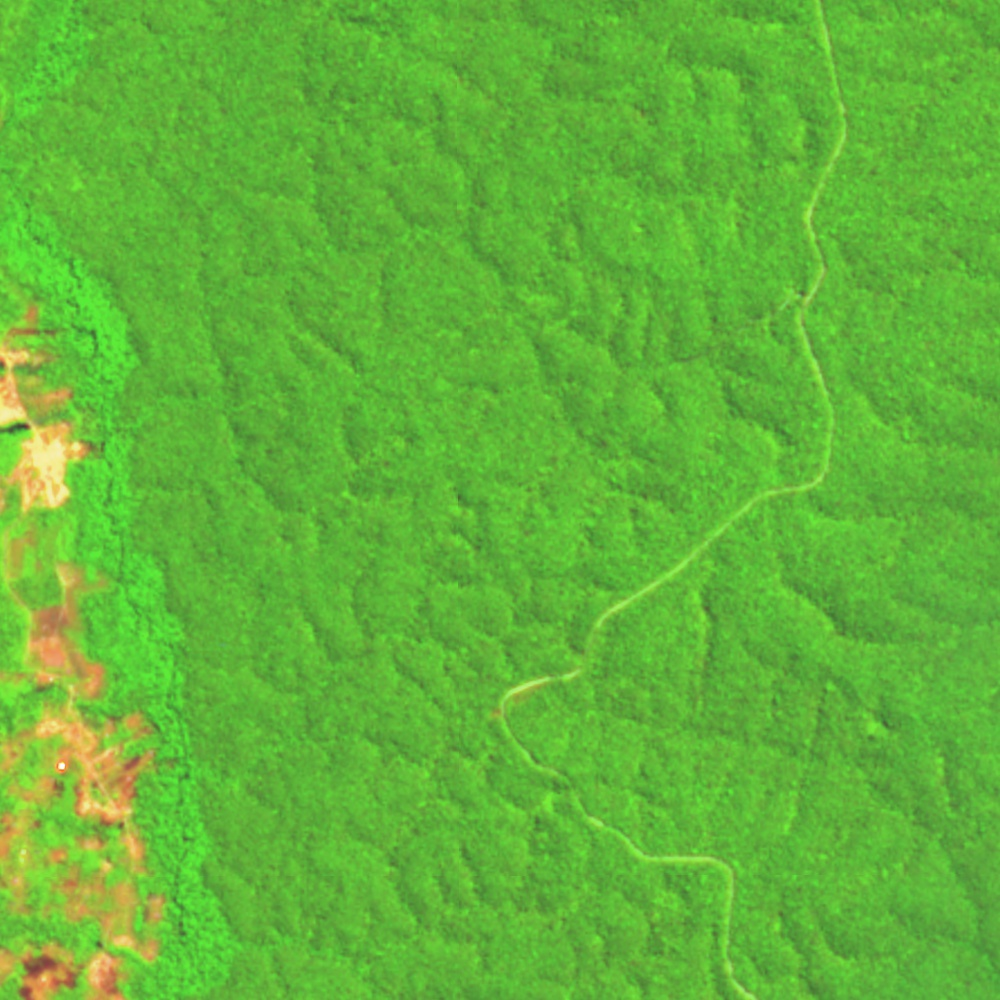legal: (1, 707, 166, 1000), (1, 525, 116, 710), (1, 307, 102, 514), (490, 680, 545, 719)
